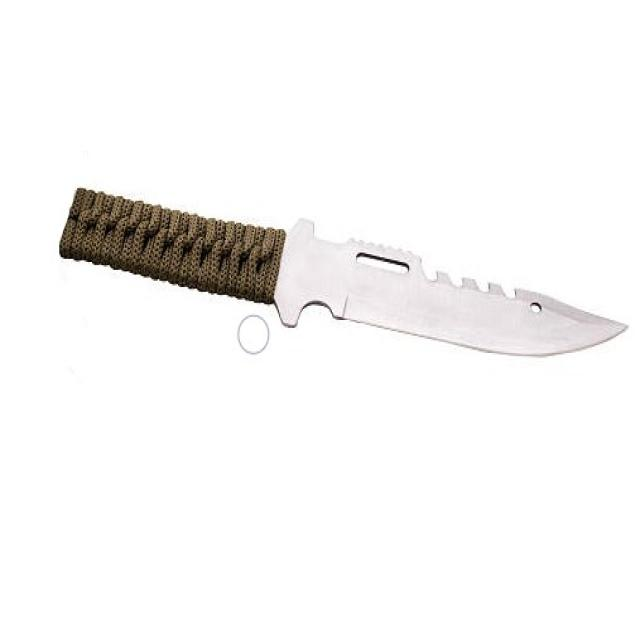knife: (57, 175, 636, 373)
